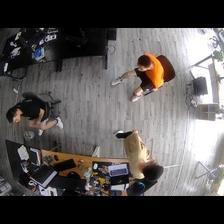normal: (110, 121, 165, 182), (4, 90, 66, 142), (109, 50, 170, 101)
